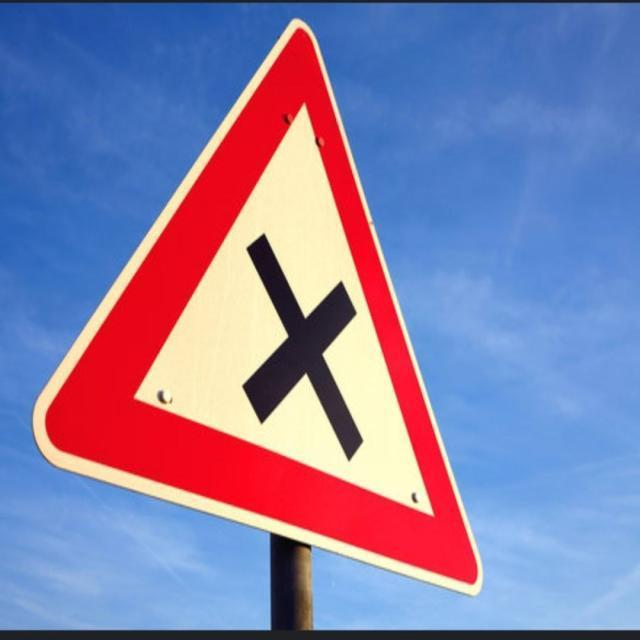cross road: (37, 19, 488, 603)
